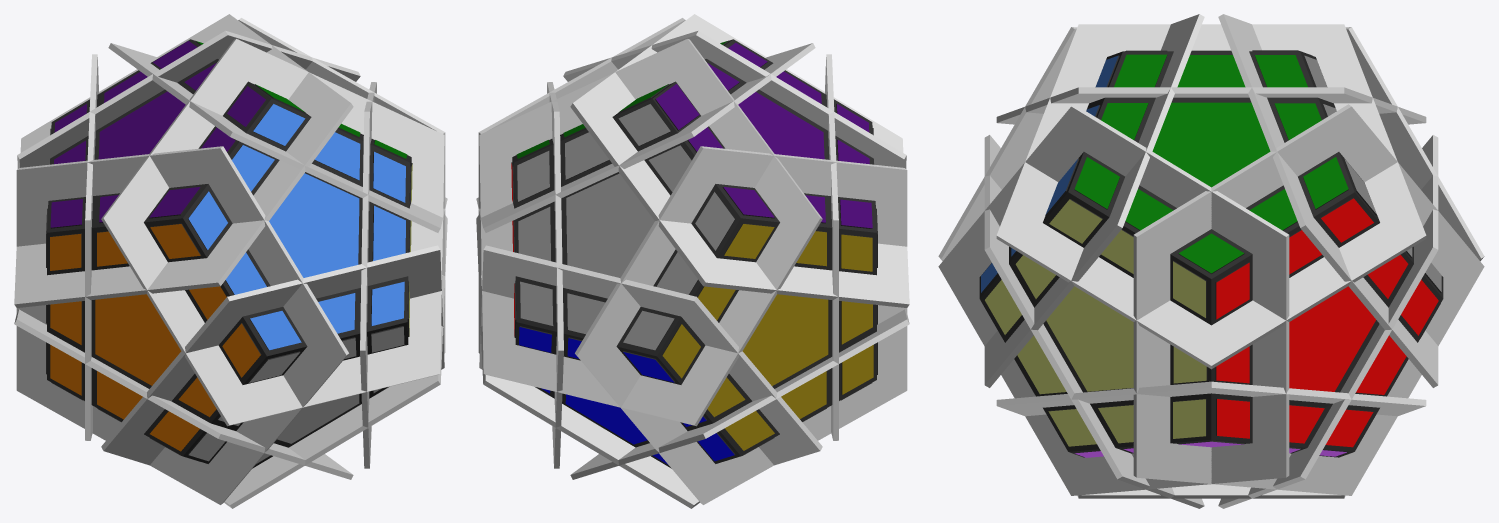
The model's file is megaminx1.glb.
The picture shows the model from 3 angles, left to right: view 1: azimuth 30°, elevation 25°; view 2: azimuth 150°, elevation 25°; view 3: azimuth 270°, elevation 25°; orthographic projection. The views are drawn at different scales.
Visible parts, largest first — view 1: plane03, plane12, plane05, plane11, Cube.023, Cube.025, plane01, plane08, Cube.008, Cube.032, plane09, plane10 (+25 smaller); view 2: plane01, plane06, plane05, plane07, Cube.016, Cube.027, plane03, plane08, Cube.012, Cube.061, plane09, plane10 (+25 smaller); view 3: plane09, plane04, plane02, Cube.005, plane03, plane01, Cube.052, Cube.036, Cube.020, plane07, plane11, plane08 (+25 smaller).
Boxes of the visible parts, x1,y1,x2,y2 form: plane03: (101,39,444,426); plane12: (16,146,348,504); plane05: (14,14,353,307); plane11: (101,245,444,465); Cube.023: (269,172,362,277); Cube.025: (91,294,181,388); plane01: (17,30,360,168); plane08: (224,215,447,508); Cube.008: (144,184,232,262); Cube.032: (218,307,307,384); plane09: (108,43,447,232); plane10: (14,309,353,479); plane01: (479,39,822,426); plane06: (575,146,907,504); plane05: (570,14,909,307); plane07: (479,245,822,465); Cube.016: (561,172,654,277); Cube.027: (742,294,832,388); plane03: (563,30,906,168); plane08: (476,215,699,508); Cube.012: (691,184,779,262); Cube.061: (616,307,705,384); plane09: (476,43,815,232); plane10: (570,309,909,479); plane09: (996,24,1426,369); plane04: (1133,104,1484,495); plane02: (938,104,1289,495); Cube.005: (1152,97,1270,187); plane03: (984,14,1204,387); plane01: (1218,14,1438,387); Cube.052: (1289,286,1379,392); Cube.036: (1043,286,1133,392); Cube.020: (1170,229,1252,325); plane07: (1218,135,1438,508); plane11: (984,135,1204,508); plane08: (996,381,1426,416).
Size of the model in its own units: 4.4 by 4.4 by 4.4.
